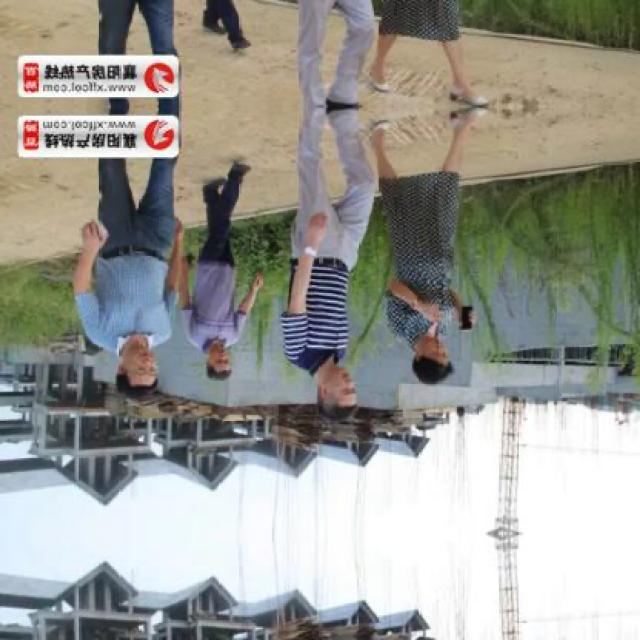sin casco: (285, 344, 376, 431), (82, 333, 186, 408), (175, 332, 266, 396), (401, 331, 468, 395)
